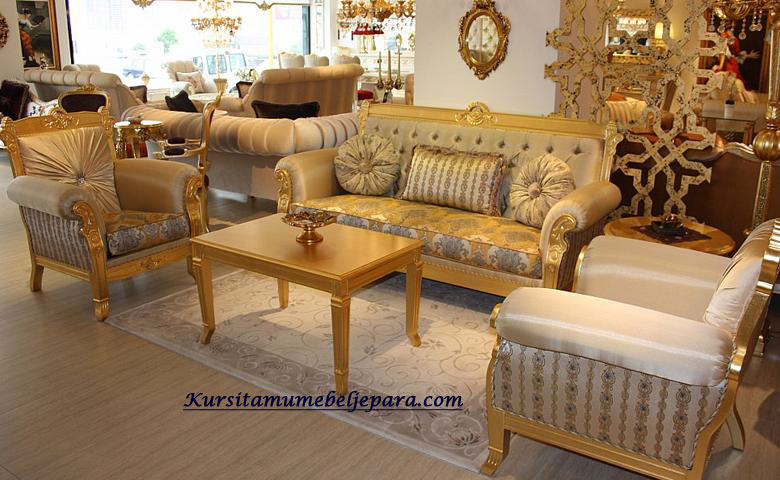Carving Chair: (497, 218, 772, 480), (3, 111, 200, 290)
Carving Table: (183, 221, 425, 393)
